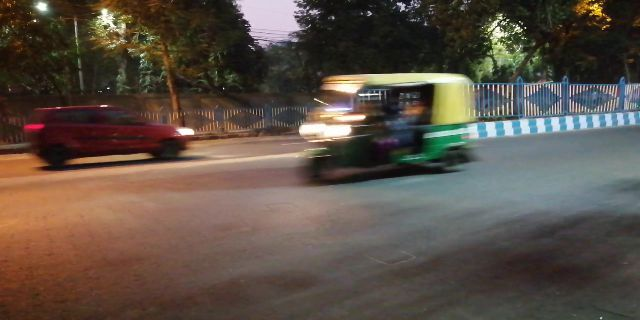Autorickshaw: (305, 73, 482, 171)
Car: (23, 105, 195, 163)
